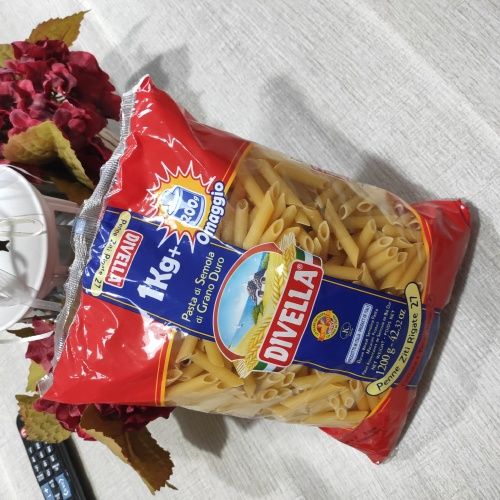pasta: (106, 117, 434, 452)
